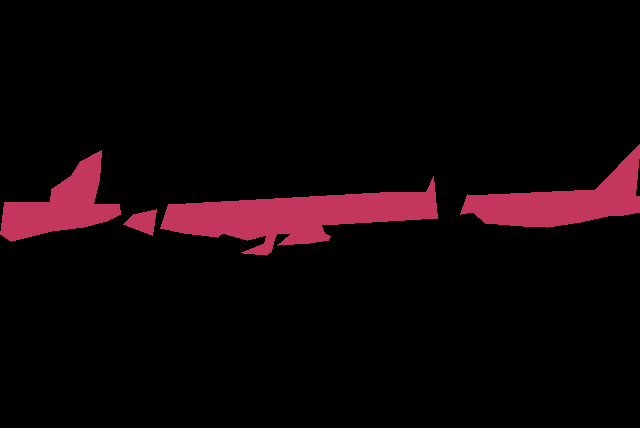Airplane: (123, 176, 438, 255), (460, 143, 640, 227), (0, 150, 120, 242)
